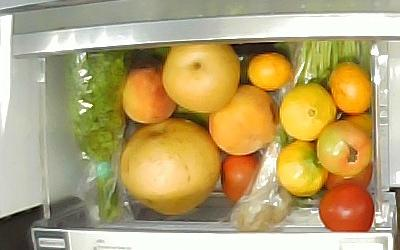peach: (209, 85, 272, 154), (124, 57, 177, 124)
pear: (119, 119, 220, 212), (163, 44, 241, 114)
tangerine: (279, 82, 336, 141), (276, 140, 327, 196), (328, 63, 374, 115), (247, 53, 291, 90), (345, 112, 374, 134)
tomato: (316, 119, 375, 178), (319, 185, 375, 233), (221, 153, 262, 203), (325, 162, 374, 187)
